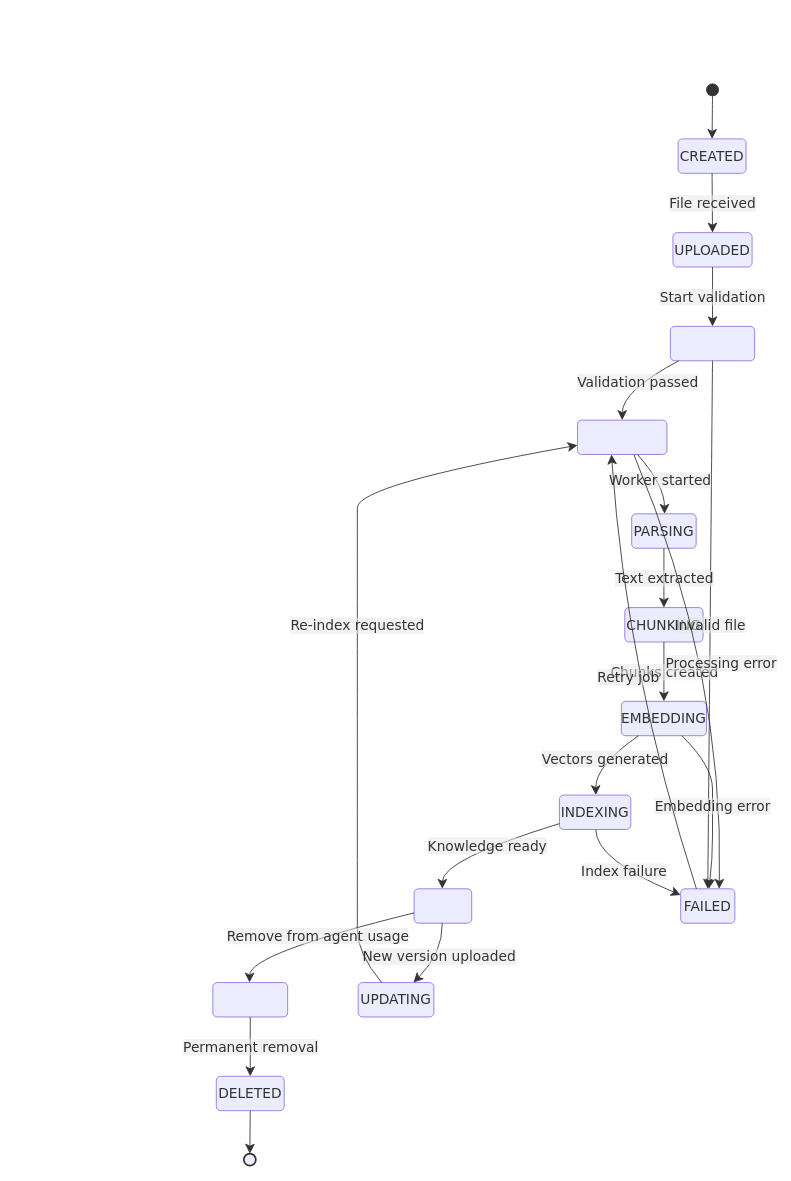
Some shapes in this 791 by 1181 pixel diagram are drawn without their labels. Each missing label, with the box of its shape:
ACTIVE: (413, 888, 472, 923)
ARCHIVED: (212, 982, 288, 1017)
PROCESSING: (577, 419, 667, 455)
VALIDATING: (670, 326, 755, 361)
